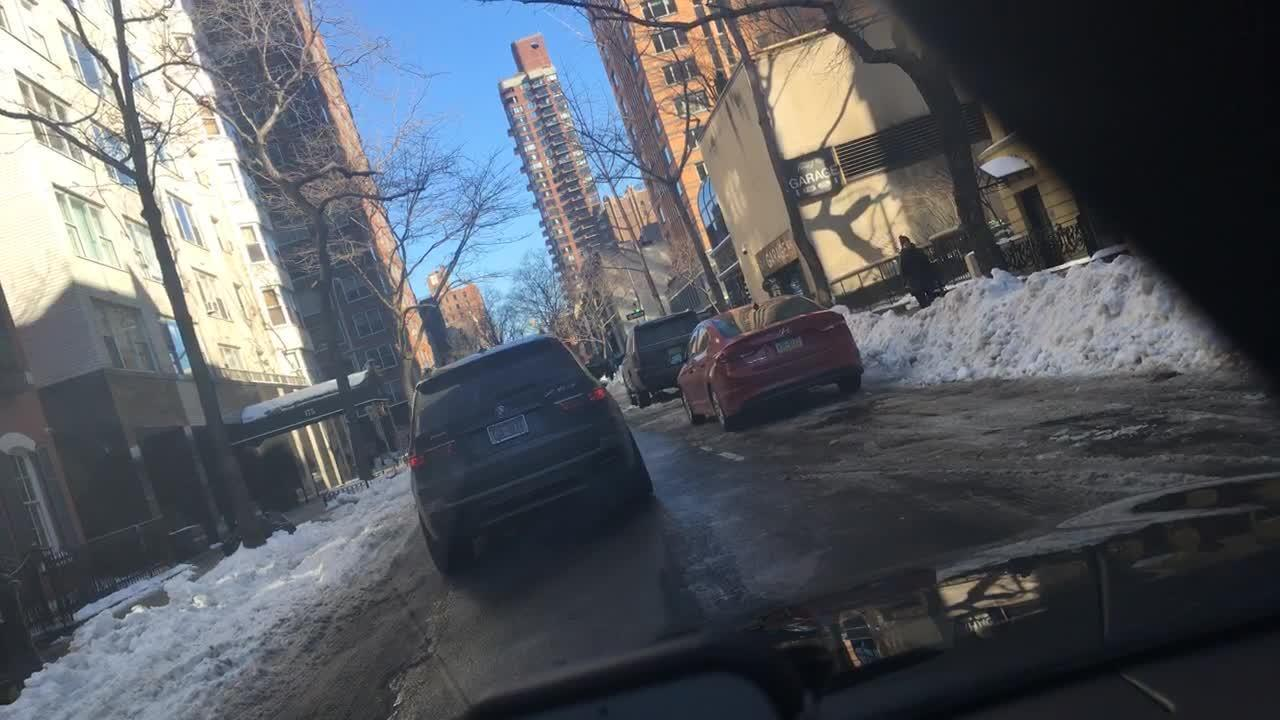bmw: (492, 404, 511, 420)
jeep: (777, 326, 795, 339)
